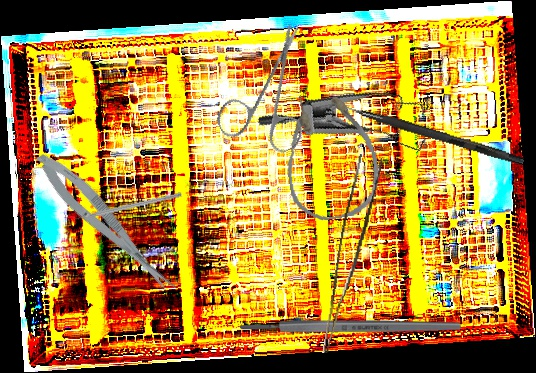Cannula: (276, 85, 385, 225)
Chopper: (65, 185, 183, 224)
Hook Surgical: (321, 97, 526, 166)
Iris Scissors: (192, 21, 346, 174)
Micro Scissor: (28, 143, 182, 305)
Scalpel Handle: (240, 320, 461, 333)
Speculum: (255, 63, 445, 196)
Tissue Forceps: (322, 152, 383, 358)
